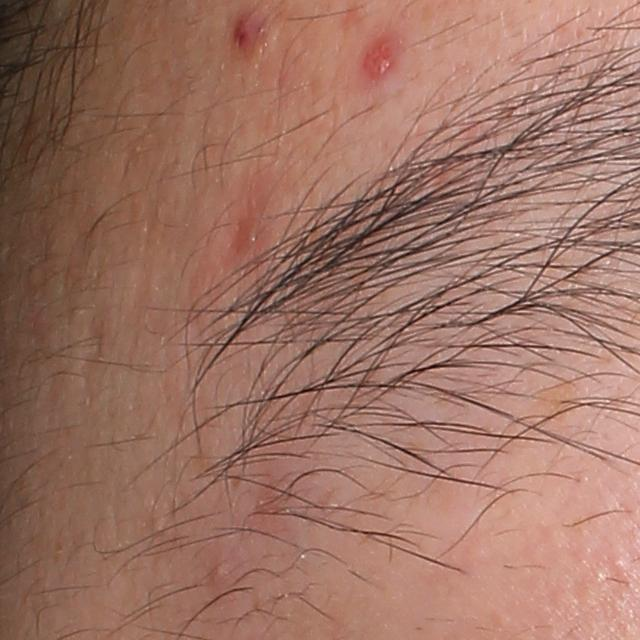papule: (358, 33, 403, 88), (230, 8, 268, 54)
